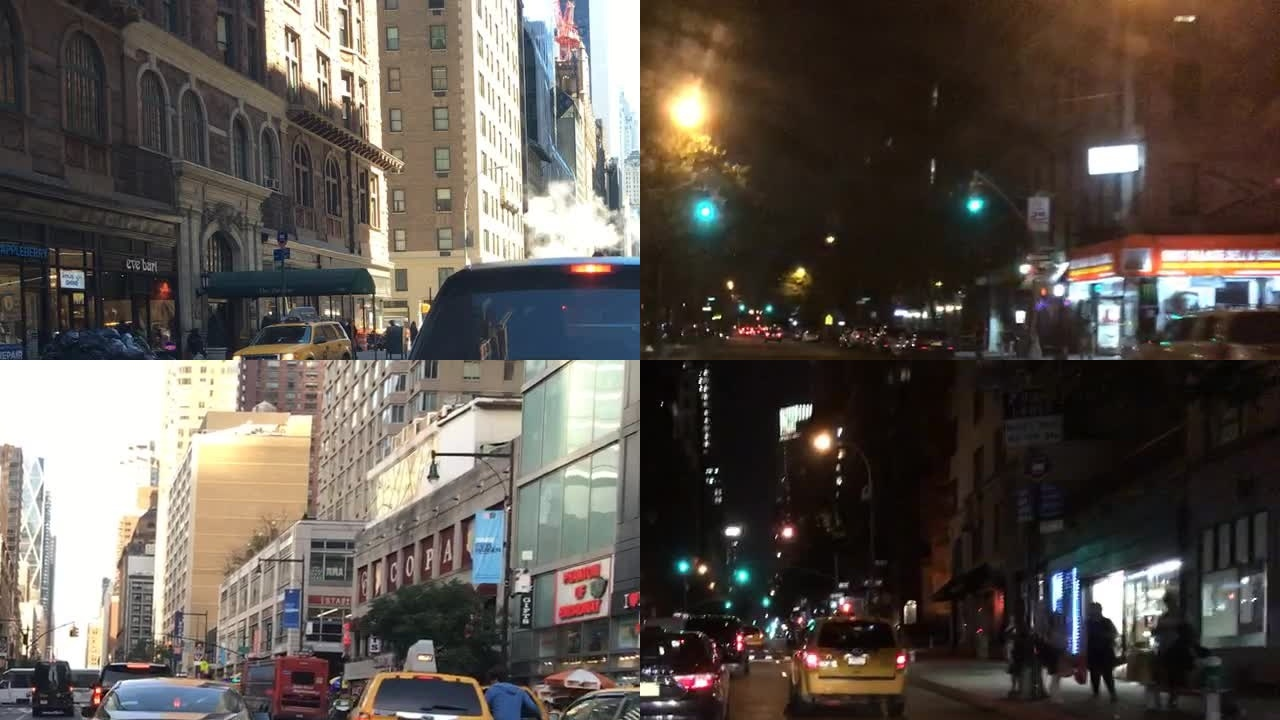car: (0, 360, 231, 678), (640, 632, 699, 701), (1149, 634, 1225, 674), (728, 634, 785, 667), (267, 375, 320, 404), (192, 376, 246, 402), (712, 634, 746, 667), (197, 349, 295, 360), (690, 634, 728, 661), (239, 372, 267, 397), (350, 348, 366, 360), (370, 351, 391, 360), (284, 354, 313, 360), (320, 353, 344, 360), (402, 349, 413, 360), (311, 353, 324, 360), (391, 352, 402, 360), (418, 352, 429, 360)
person: (340, 374, 362, 426), (971, 625, 992, 674), (991, 635, 1013, 671), (362, 381, 379, 426), (1063, 627, 1082, 664), (863, 627, 881, 666), (820, 627, 834, 662), (377, 370, 392, 397), (180, 356, 194, 360), (666, 0, 691, 1)
traffic light: (593, 218, 611, 264), (1094, 578, 1111, 597), (594, 290, 614, 306), (763, 539, 773, 566), (817, 605, 834, 620), (1073, 576, 1084, 595), (440, 360, 450, 364), (326, 360, 341, 361)
traffic sign: (805, 553, 825, 575), (1109, 546, 1143, 558), (581, 276, 593, 293), (815, 593, 830, 602)
truck: (417, 360, 640, 633), (452, 312, 525, 360)
